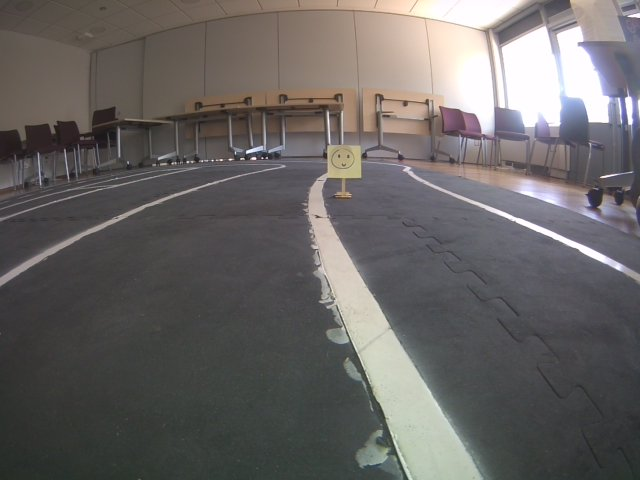Smiley: (325, 142, 363, 180)
